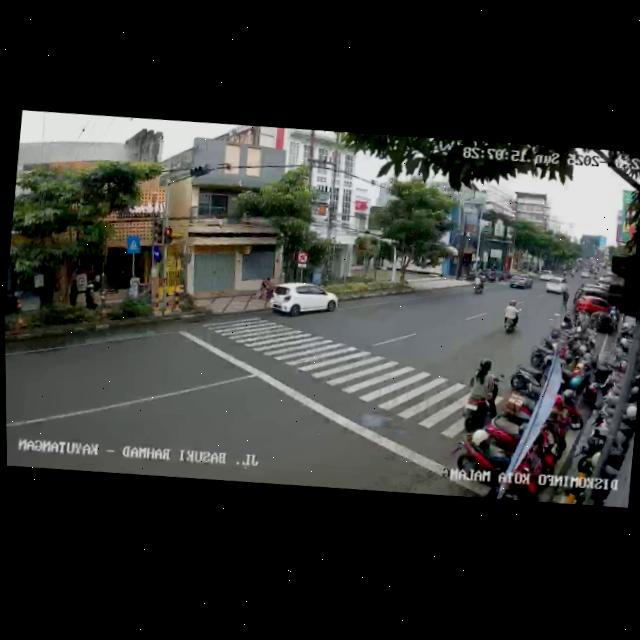car: (265, 275, 340, 322), (571, 279, 616, 324), (542, 272, 569, 296), (506, 269, 534, 290)
motorcycle: (460, 355, 502, 435), (498, 294, 523, 335), (473, 271, 486, 294)
